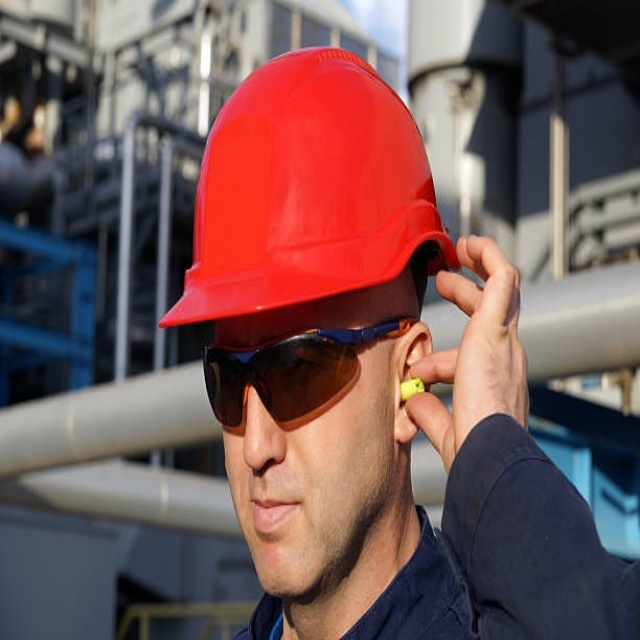Gafas: (204, 309, 417, 441)
Sin_guantes: (406, 230, 530, 470)
Sin_mascara: (237, 482, 322, 595)
